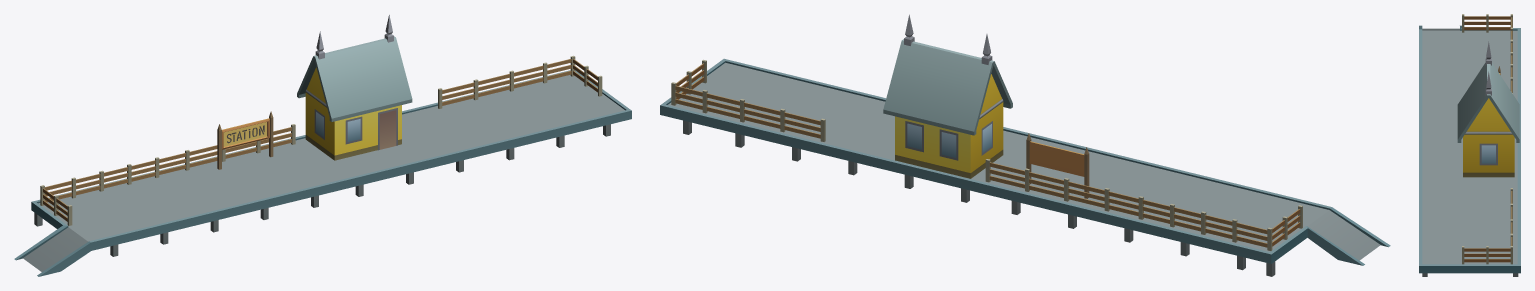
File: Train_Station_A.fbx
3 renders of one model, left to right at view 1: azimuth 30°, elevation 25°; view 2: azimuth 150°, elevation 25°; view 3: azimuth 270°, elevation 25°, orthographic. The views are drawn at different scales.
Visible parts, largest first — view 1: Train_Station_A; view 2: Train_Station_A; view 3: Train_Station_A.
Boxes of the visible parts, bbox=[...] form: Train_Station_A: bbox=[14, 15, 631, 276]; Train_Station_A: bbox=[660, 14, 1390, 276]; Train_Station_A: bbox=[1419, 14, 1520, 276].
Bounding box in the file's own units: 4104 × 923 × 680.
